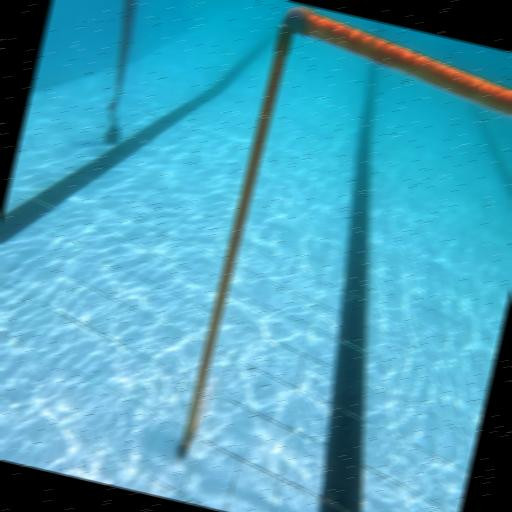gate: (175, 1, 512, 512)
